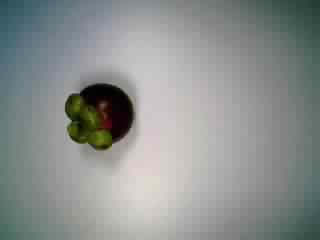mangosteen: (61, 80, 135, 152)
